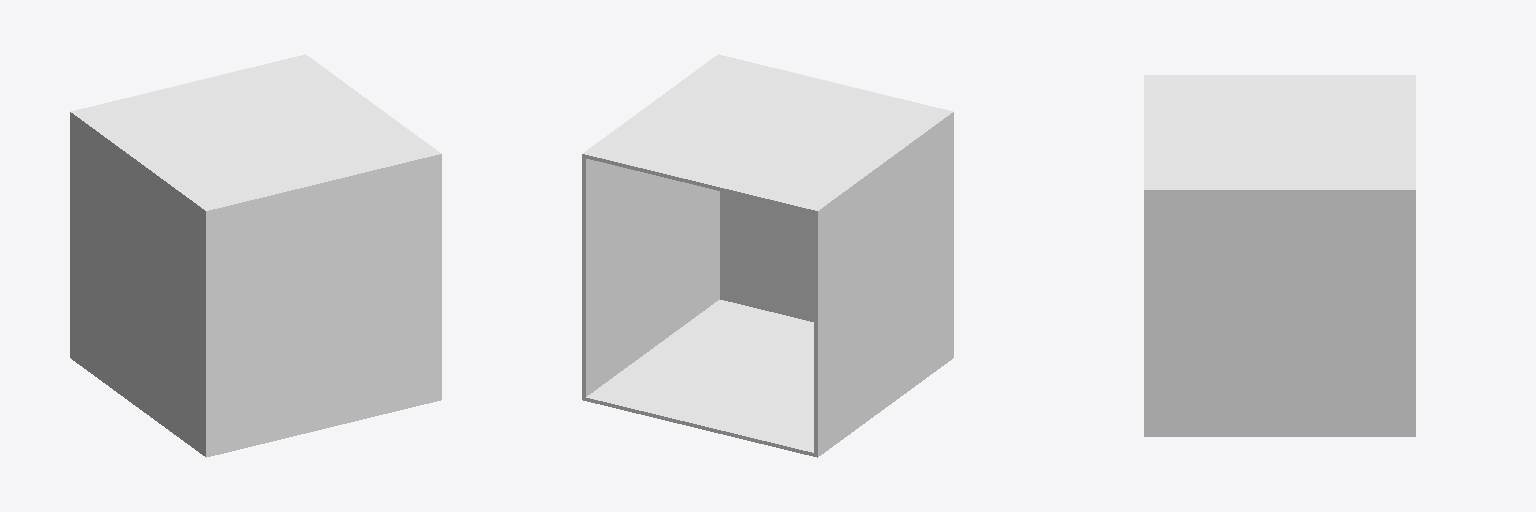
File: glidBox.obj
3 renders of one model, left to right at view 1: azimuth 30°, elevation 25°; view 2: azimuth 150°, elevation 25°; view 3: azimuth 270°, elevation 25°, orthographic.
Visible parts, largest first — view 1: object 1; view 2: object 1; view 3: object 1.
Part boxes in pixels (left/top/right/bottom): object 1: left=70, top=54, right=441, bottom=457; object 1: left=582, top=54, right=953, bottom=457; object 1: left=1144, top=75, right=1415, bottom=436.
Bounding box in the file's own units: 6.6 × 6.6 × 6.6.